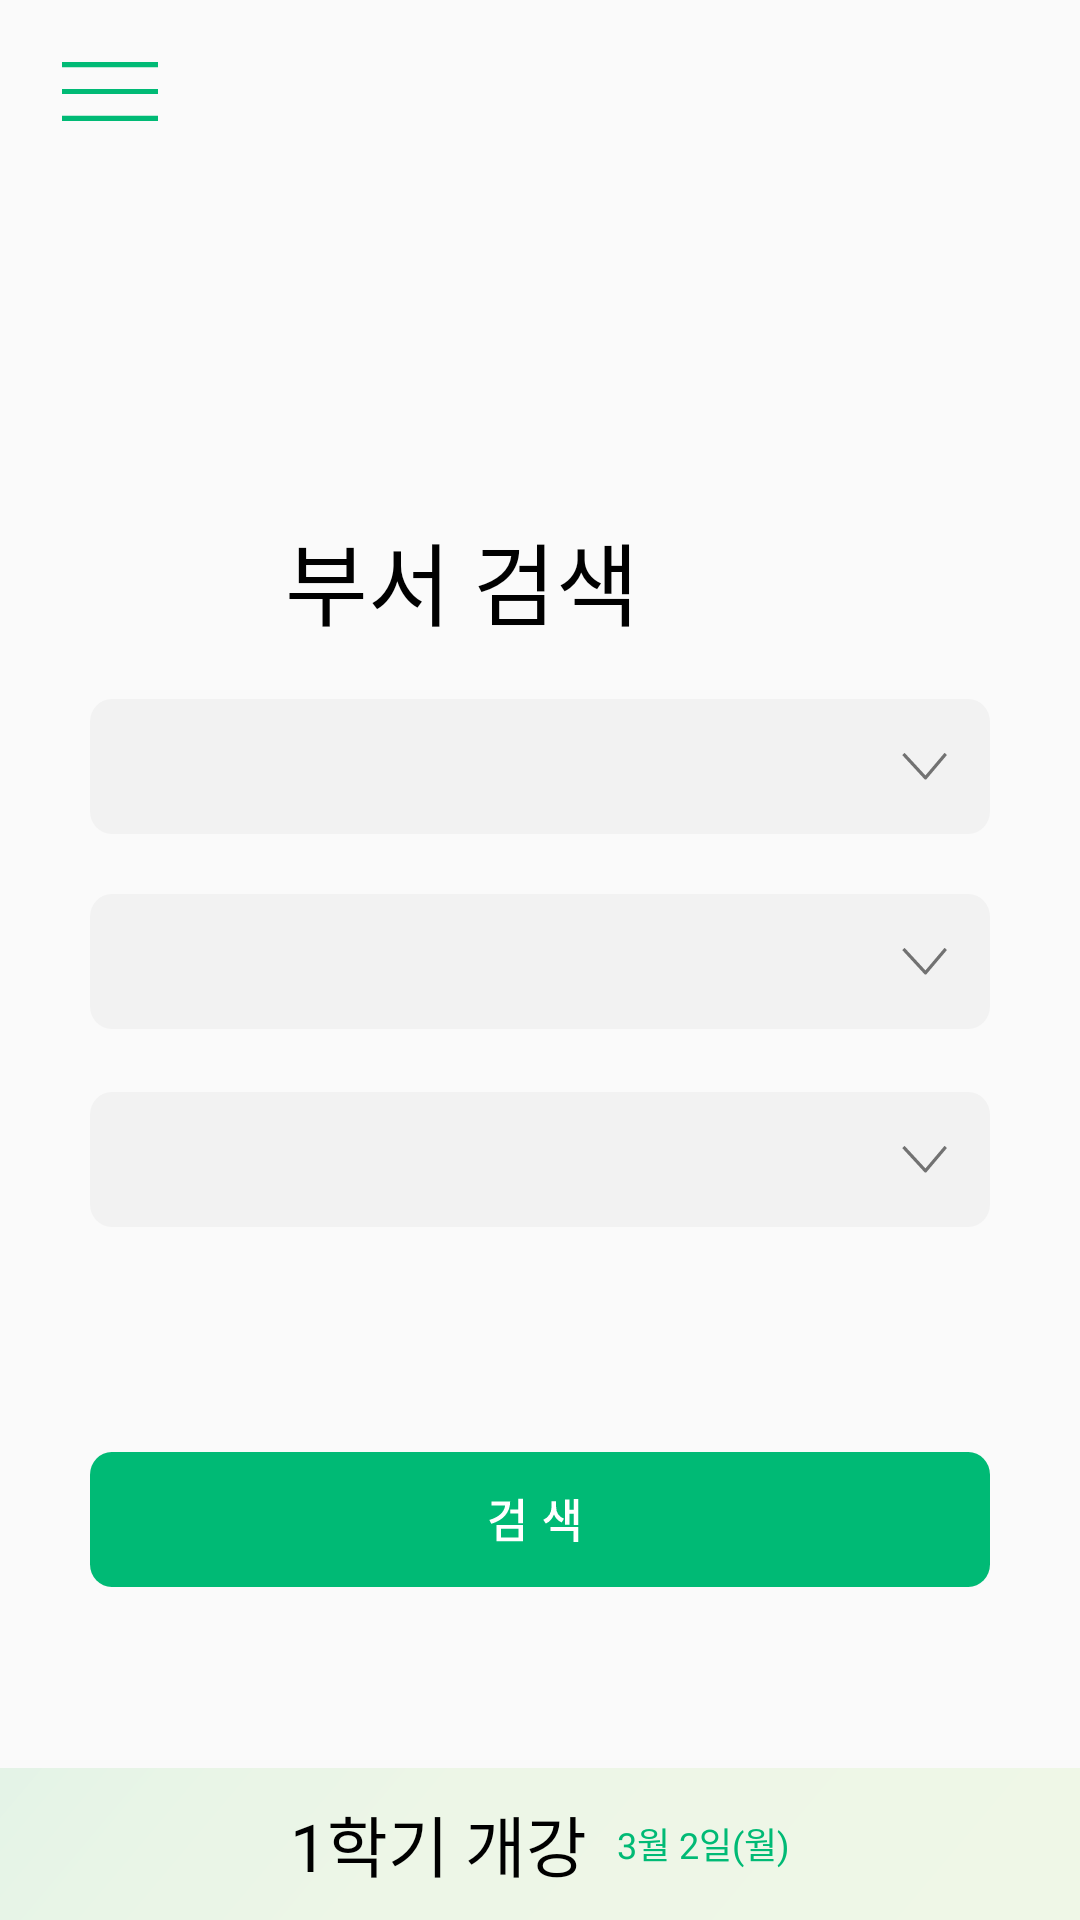

Icon click points for this 1080px×1920px phone screenshot, format point (x, y):
navibutton: point (110, 91)
